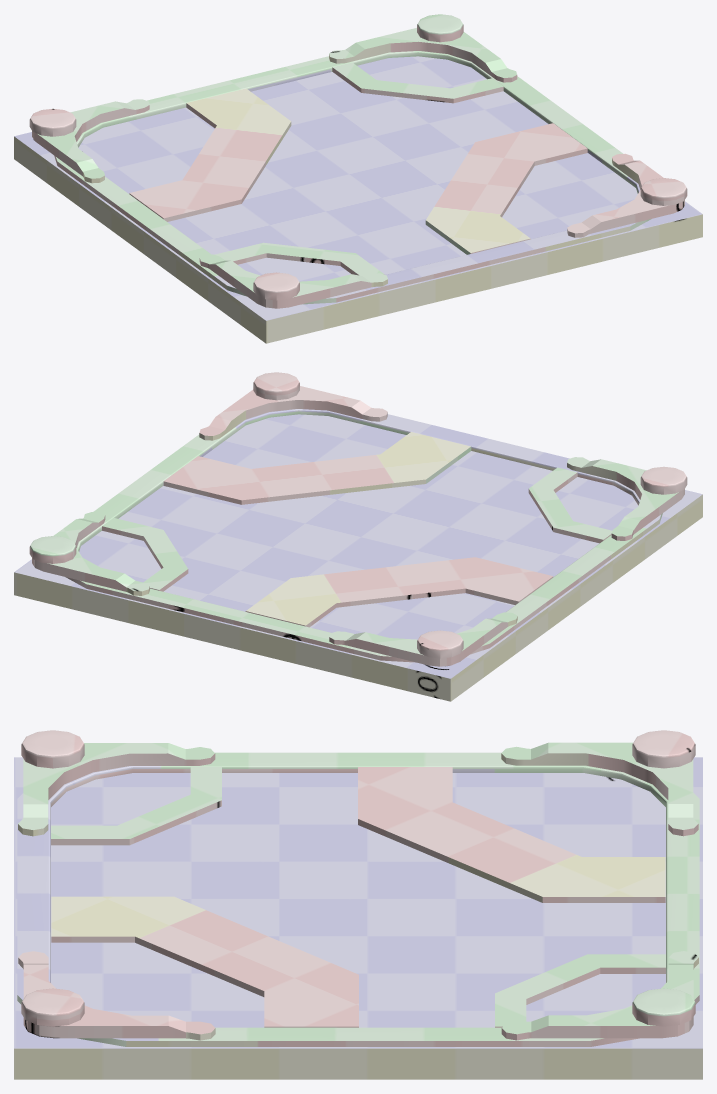
Rendered from wall_panel_scifi.fbx.
3 renders of one model, top to bottom at view 1: azimuth 30°, elevation 25°; view 2: azimuth 150°, elevation 25°; view 3: azimuth 270°, elevation 25°, orthographic. The views are drawn at different scales.
Parts seen in each view (by area): view 1: wall_panel_scifi_back, wall_panel_scifi_arcs2, wall_panel_scifi_frame, wall_panel_scifi_corners, wall_panel_scifi_caps; view 2: wall_panel_scifi_back, wall_panel_scifi_arcs2, wall_panel_scifi_frame, wall_panel_scifi_corners, wall_panel_scifi_caps; view 3: wall_panel_scifi_back, wall_panel_scifi_arcs2, wall_panel_scifi_frame, wall_panel_scifi_corners, wall_panel_scifi_caps.
Boxes of the visible parts, <box> form: wall_panel_scifi_back: <box>14,56,702,343</box>; wall_panel_scifi_arcs2: <box>129,62,587,275</box>; wall_panel_scifi_frame: <box>54,51,651,304</box>; wall_panel_scifi_corners: <box>32,28,684,308</box>; wall_panel_scifi_caps: <box>29,14,687,300</box>; wall_panel_scifi_back: <box>14,414,702,701</box>; wall_panel_scifi_arcs2: <box>102,432,612,627</box>; wall_panel_scifi_frame: <box>65,409,662,662</box>; wall_panel_scifi_corners: <box>32,386,684,666</box>; wall_panel_scifi_caps: <box>29,372,687,658</box>; wall_panel_scifi_back: <box>14,757,702,1079</box>; wall_panel_scifi_arcs2: <box>51,766,665,1027</box>; wall_panel_scifi_frame: <box>17,752,699,1046</box>; wall_panel_scifi_corners: <box>18,742,698,1040</box>; wall_panel_scifi_caps: <box>21,730,695,1026</box>.
Size of the model in its own units: 200 by 20 by 200.
